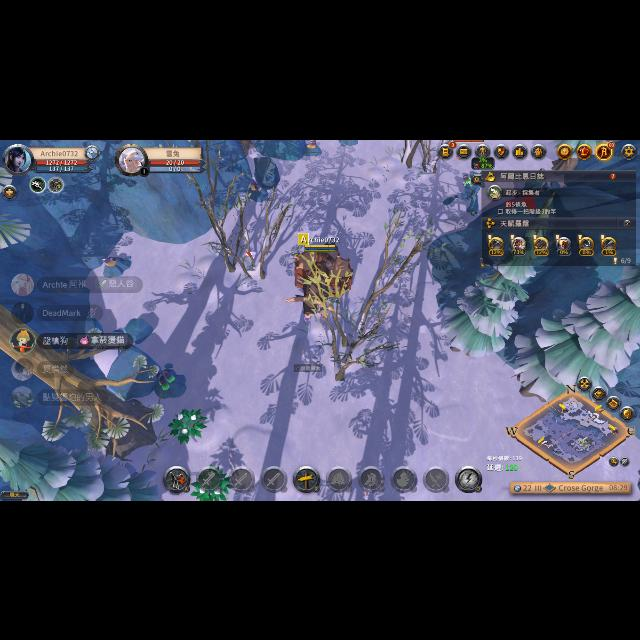mine_ii: (98, 254, 130, 276), (244, 177, 270, 199), (302, 138, 324, 154)
mine_iii: (154, 370, 182, 396)
